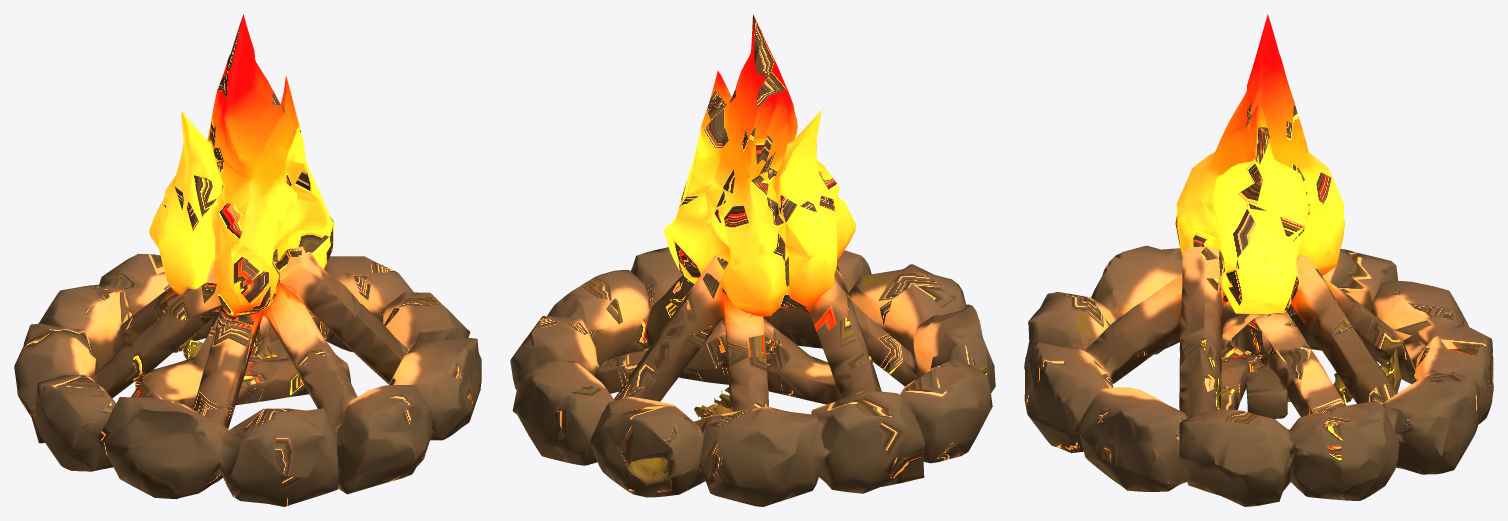
File: campfire.glb
The picture shows the model from 3 angles, left to right: view 1: azimuth 30°, elevation 25°; view 2: azimuth 150°, elevation 25°; view 3: azimuth 270°, elevation 25°; orthographic projection.
Visible parts, largest first — view 1: tripo_node_368d7cc5-9650-43c3-ac7b-5d715987efb6; view 2: tripo_node_368d7cc5-9650-43c3-ac7b-5d715987efb6; view 3: tripo_node_368d7cc5-9650-43c3-ac7b-5d715987efb6.
Boxes of the visible parts, x1,y1,x2,y2 form: tripo_node_368d7cc5-9650-43c3-ac7b-5d715987efb6: [14, 14, 481, 506]; tripo_node_368d7cc5-9650-43c3-ac7b-5d715987efb6: [510, 14, 995, 506]; tripo_node_368d7cc5-9650-43c3-ac7b-5d715987efb6: [1024, 14, 1493, 506].
Bounding box in the file's own units: 1 × 0.9238 × 0.9687.
1 material, 1 textured.
